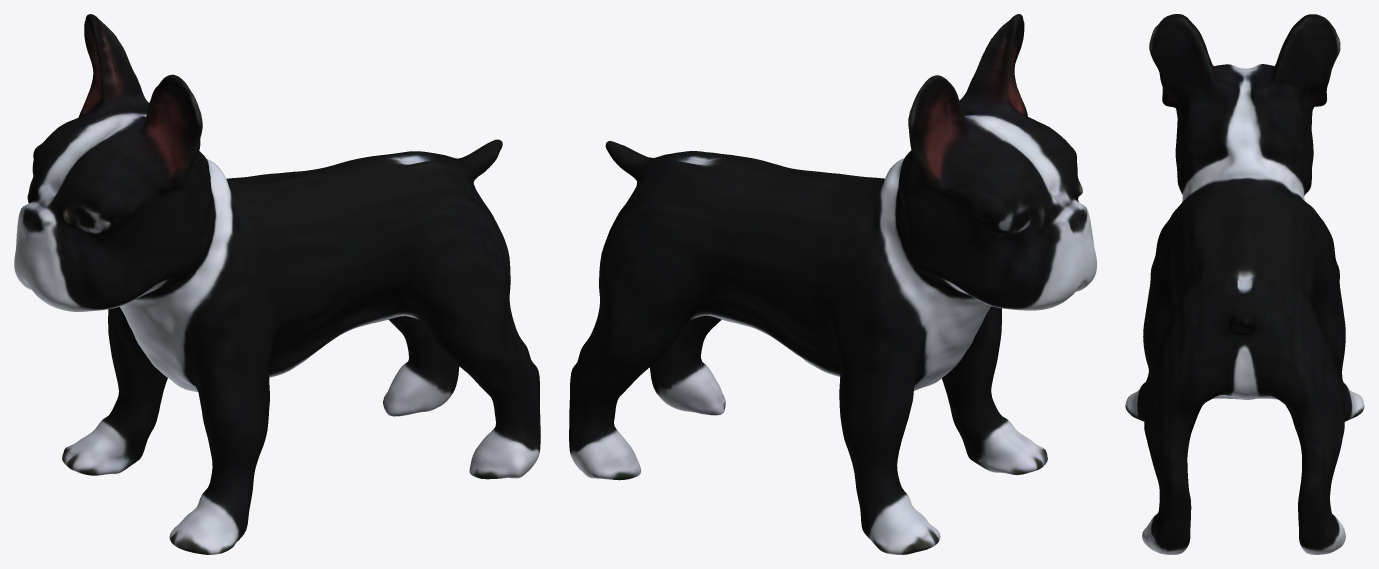
File: dog.fbx
3 views of the same model, side by side, from view 1: azimuth 30°, elevation 25°; view 2: azimuth 150°, elevation 25°; view 3: azimuth 270°, elevation 25° (orthographic). The views are drawn at different scales.
Visible parts, largest first — view 1: geometry_0; view 2: geometry_0; view 3: geometry_0.
Boxes of the visible parts, x1,y1,x2,y2 form: geometry_0: (14, 14, 540, 554); geometry_0: (569, 14, 1096, 554); geometry_0: (1125, 14, 1364, 554).
Size of the model in its own units: 45.76 by 43.32 by 23.42.
Materials: 1 (1 with a texture image).
